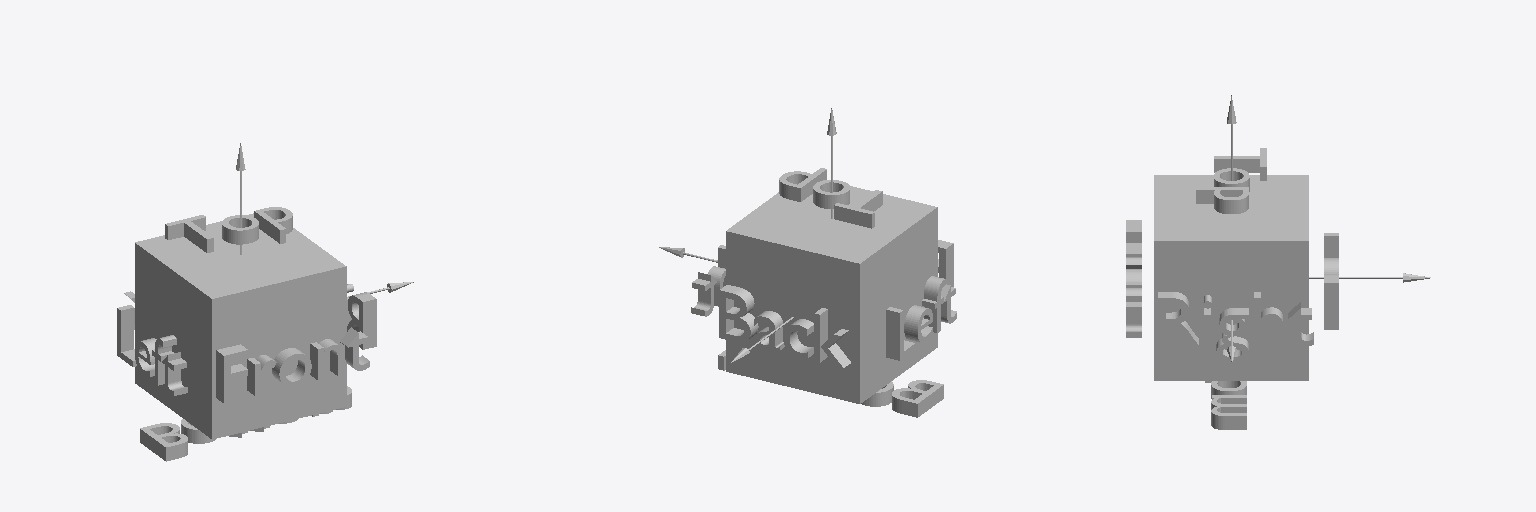
Rendered from SidesLabeled.obj.
The picture shows the model from 3 angles: view 1: azimuth 30°, elevation 25°; view 2: azimuth 150°, elevation 25°; view 3: azimuth 270°, elevation 25°; orthographic projection.
Visible parts, largest first — view 1: Cube, Front, Left, Top, Bottom, Right; view 2: Cube, Back, Left, Top, Bottom, Right, Front; view 3: Cube, Right, Top, Front, Bottom, Back.
Part boxes in pixels (x1,y1,x2,y2): Cube: (135,213,346,439); Front: (216,327,369,403); Left: (117,305,187,395); Top: (165,207,292,252); Bottom: (140,386,351,461); Right: (347,284,376,349); Cube: (726,186,937,403); Back: (719,285,850,367); Left: (886,276,956,360); Top: (779,168,882,228); Bottom: (718,350,943,417); Right: (691,245,725,316); Front: (938,240,953,286); Cube: (1154,175,1308,380); Right: (1158,292,1313,361); Top: (1196,148,1266,213); Front: (1126,220,1141,337); Bottom: (1205,381,1246,429); Back: (1324,233,1338,329).
Bounding box in the file's own units: 4.03 × 4.03 × 3.97.